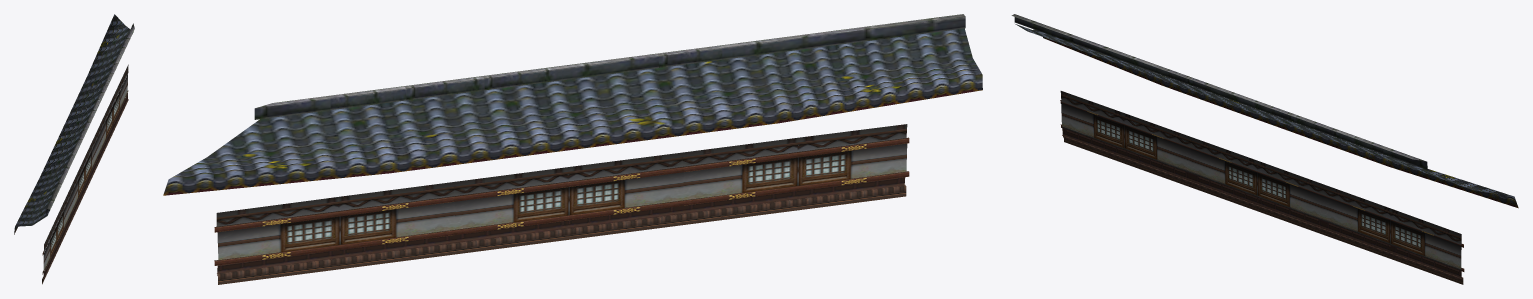
Rendered from S2_Build_XSC059_H8.FBX.
3 views of the same model, side by side, from view 1: azimuth 30°, elevation 25°; view 2: azimuth 150°, elevation 25°; view 3: azimuth 270°, elevation 25° (orthographic). The views are drawn at different scales.
Parts seen in each view (by area): view 1: S2_Build_XSC059_H8; view 2: S2_Build_XSC059_H8; view 3: S2_Build_XSC059_H8.
Part boxes in pixels (x1,y1,x2,y2): S2_Build_XSC059_H8: [14, 14, 134, 284]; S2_Build_XSC059_H8: [163, 14, 982, 284]; S2_Build_XSC059_H8: [1011, 14, 1518, 284].
Bounding box in the file's own units: 8227 × 2700 × 9918.
